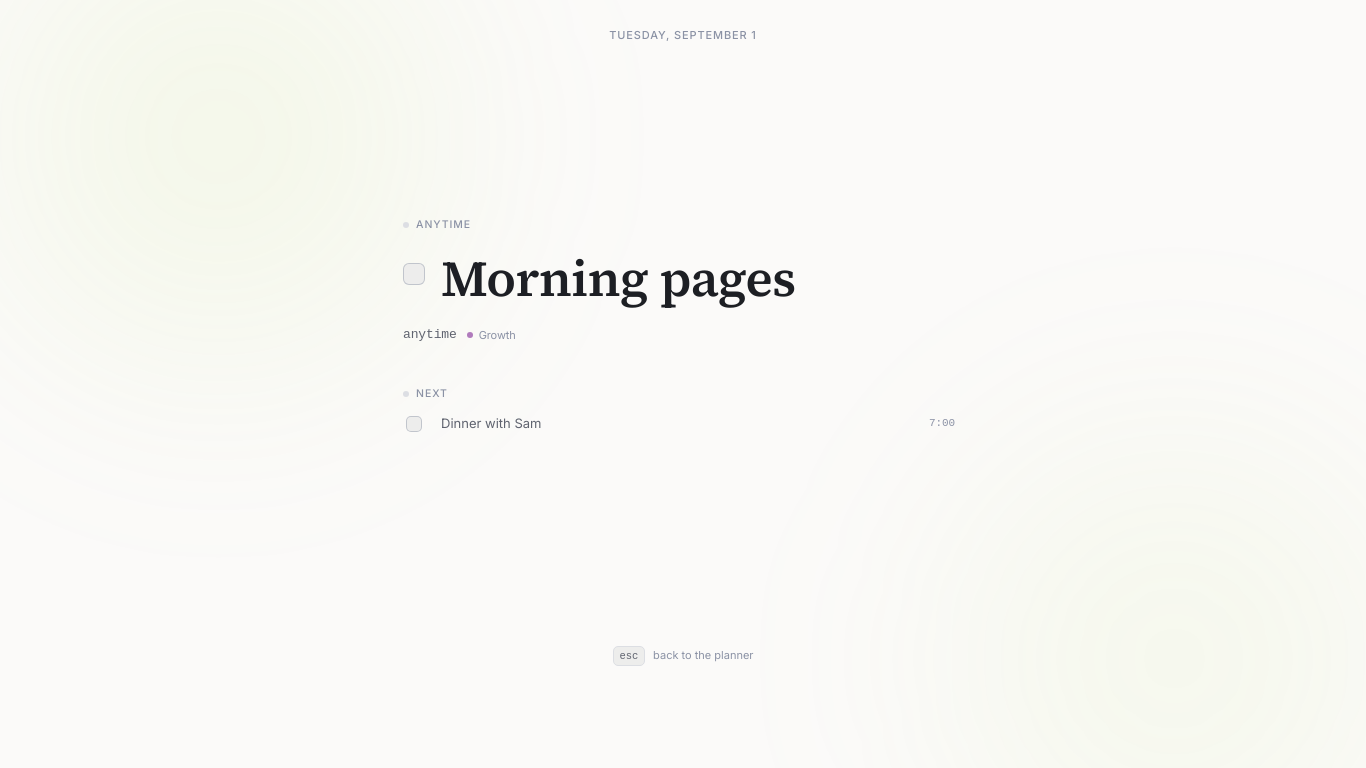
Test case: the Zen room › hands the hero to the next open row once the first is ticked
The width and height of the screenshot is (1366, 768).
Click the button named "Complete Morning pages". click: x=414, y=274
box: [403,263,425,285]
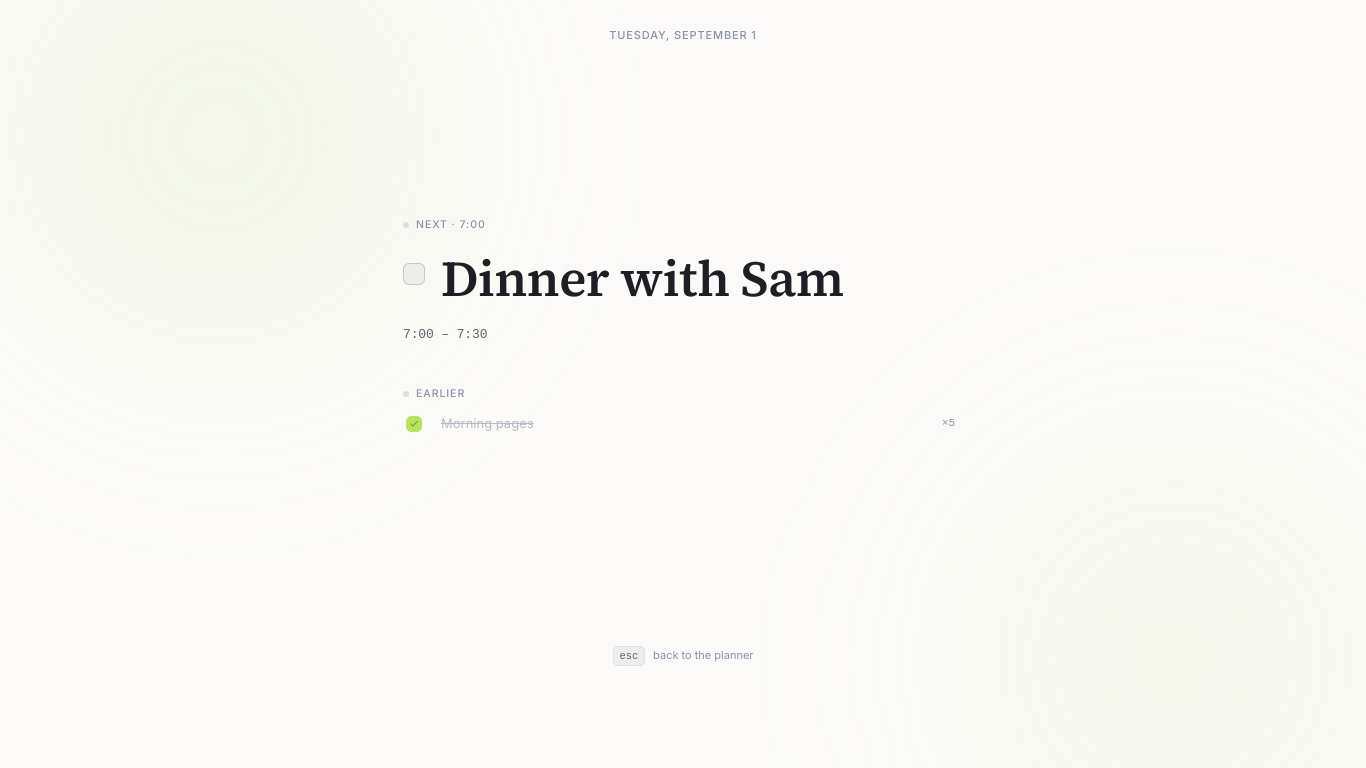
Expected: the heading reads "Dinner with Sam", [441,244,844,313]
